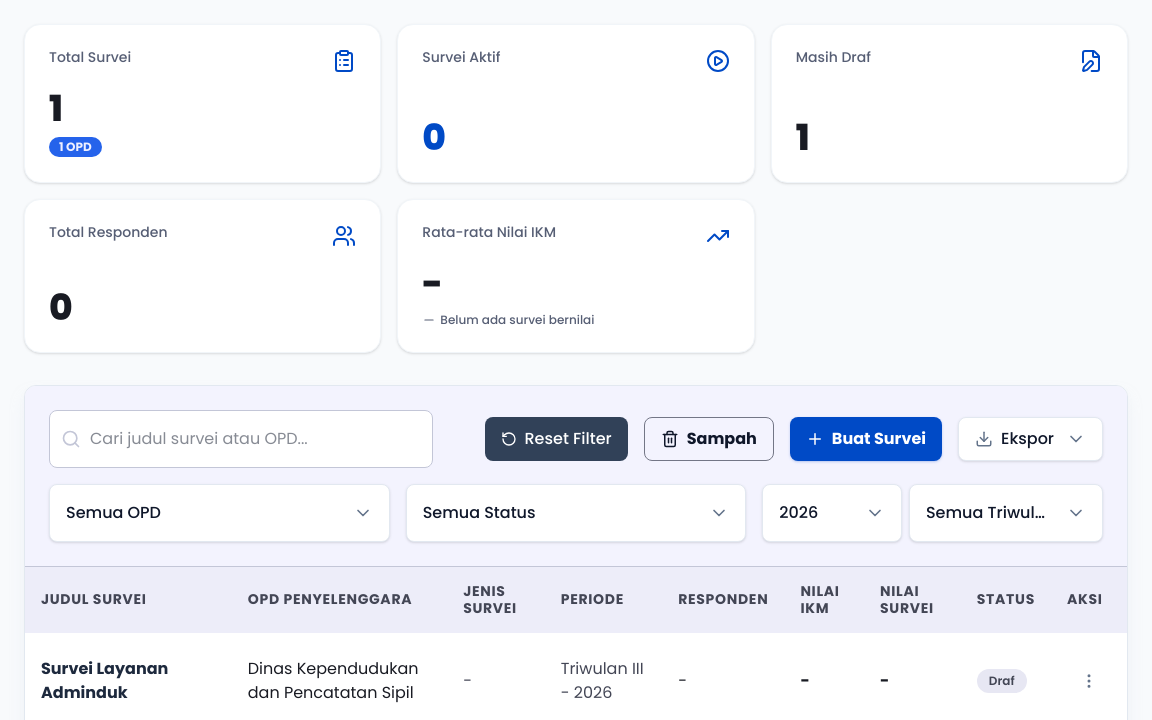
Test: AdminKabSurveysPage — gerbang Salin › Salin ditahan di dialog dan menyebut nama OPD-nya
Expected: the text "Survei Layanan Adminduk" is shown, 41,657 -> 168,704
Click the button named "aksi untuk" at (1089, 681), box 1067,659 -> 1111,703
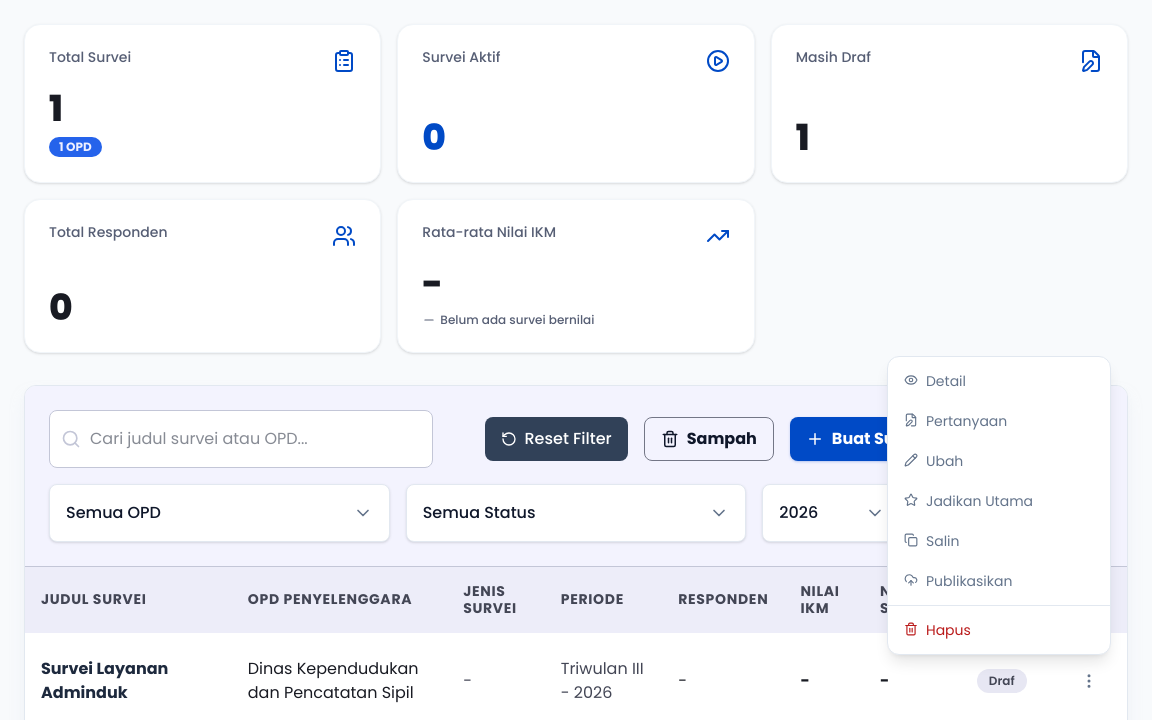
Click the menu item "Salin" at (999, 541), box 888,521 -> 1110,561
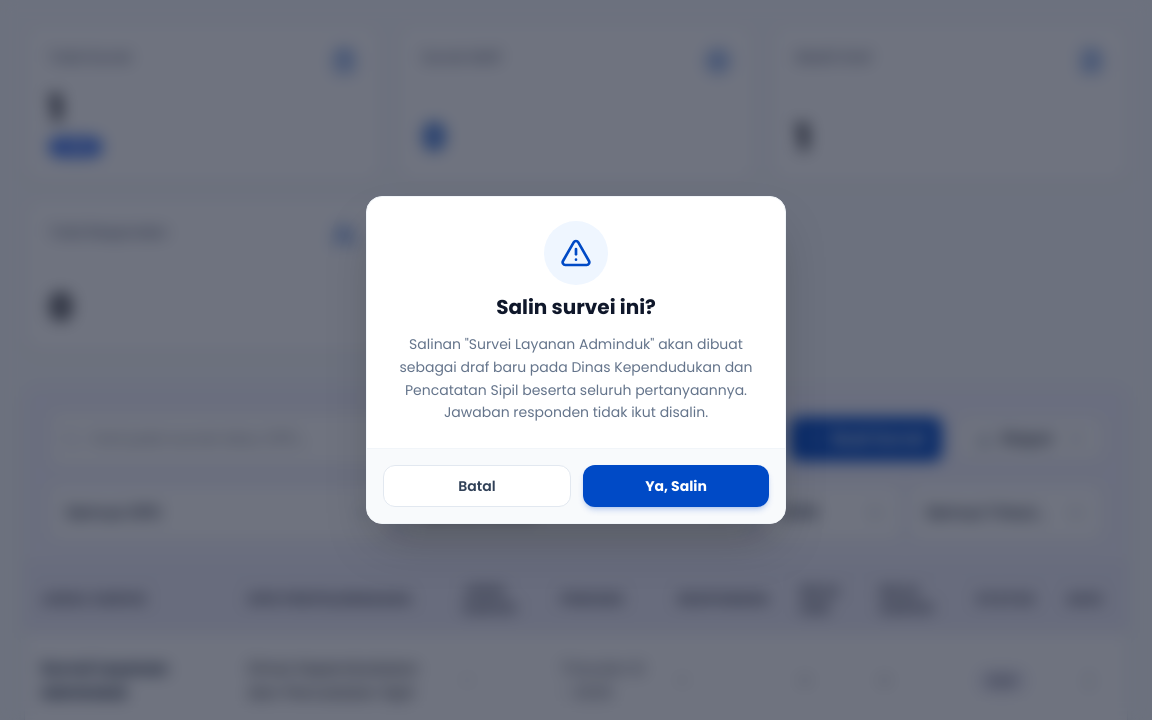
Result: the heading "Salin survei ini?" is shown at 496,293 -> 656,321
Result: the text "Dinas Kependudukan dan Pencatatan Sipil beserta seluruh pertanyaannya" is shown at 400,334 -> 753,422
